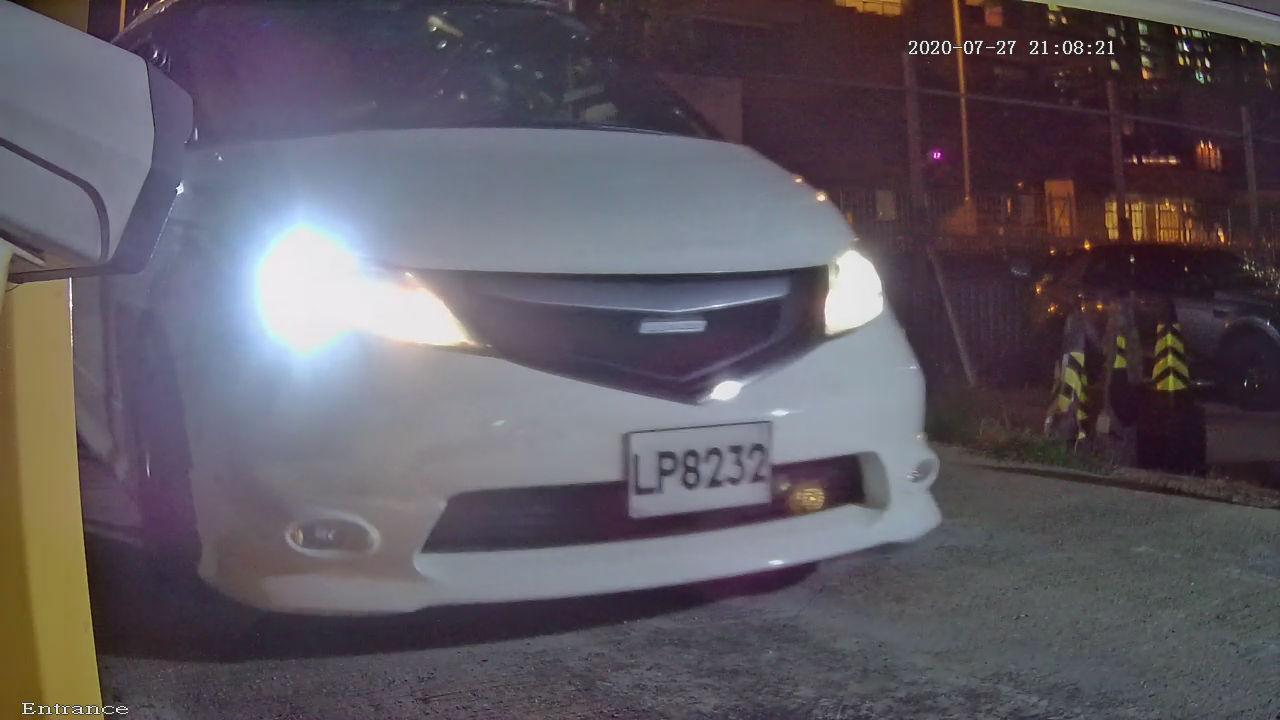privatecar: (115, 17, 1001, 666)
